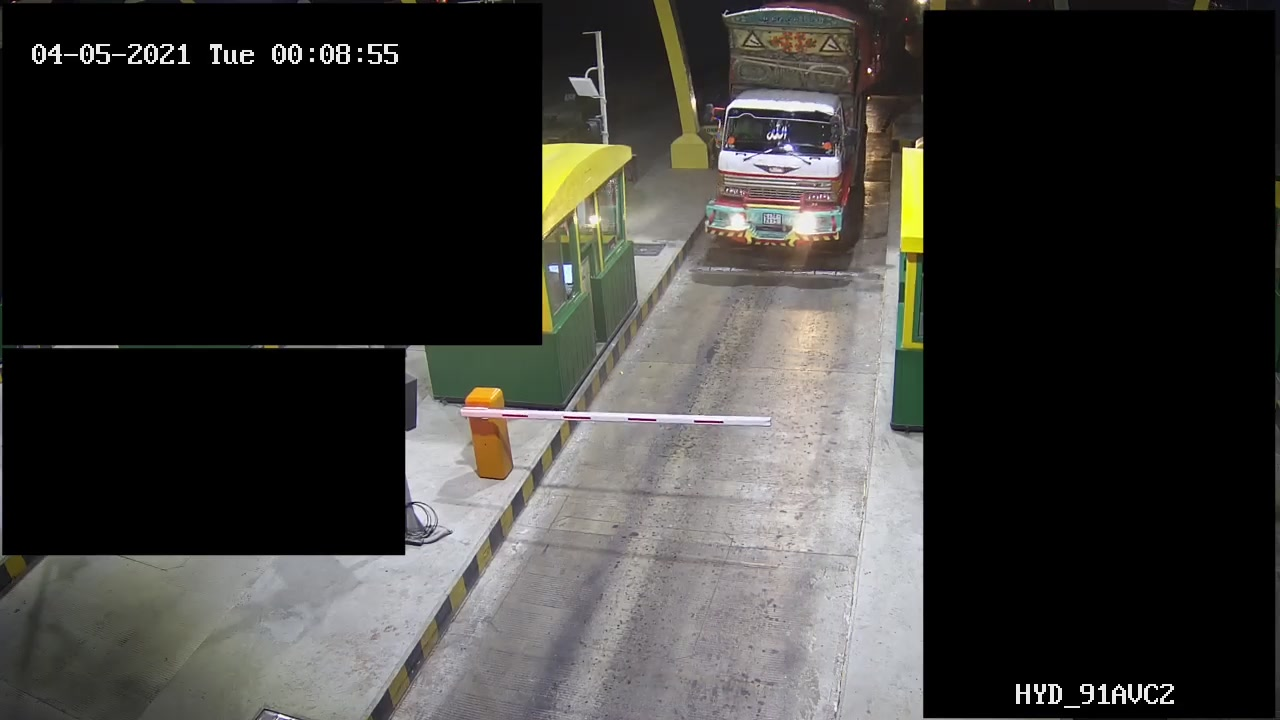F5: (696, 1, 867, 268)
